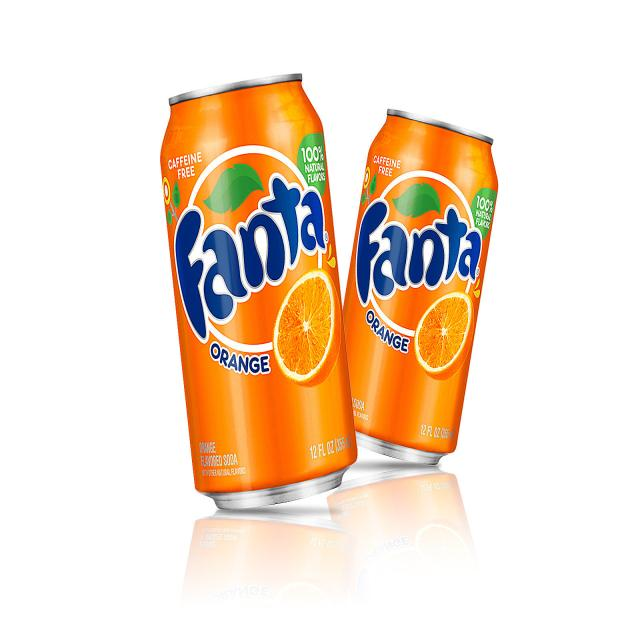fanta: (157, 74, 356, 522), (341, 97, 499, 475)
